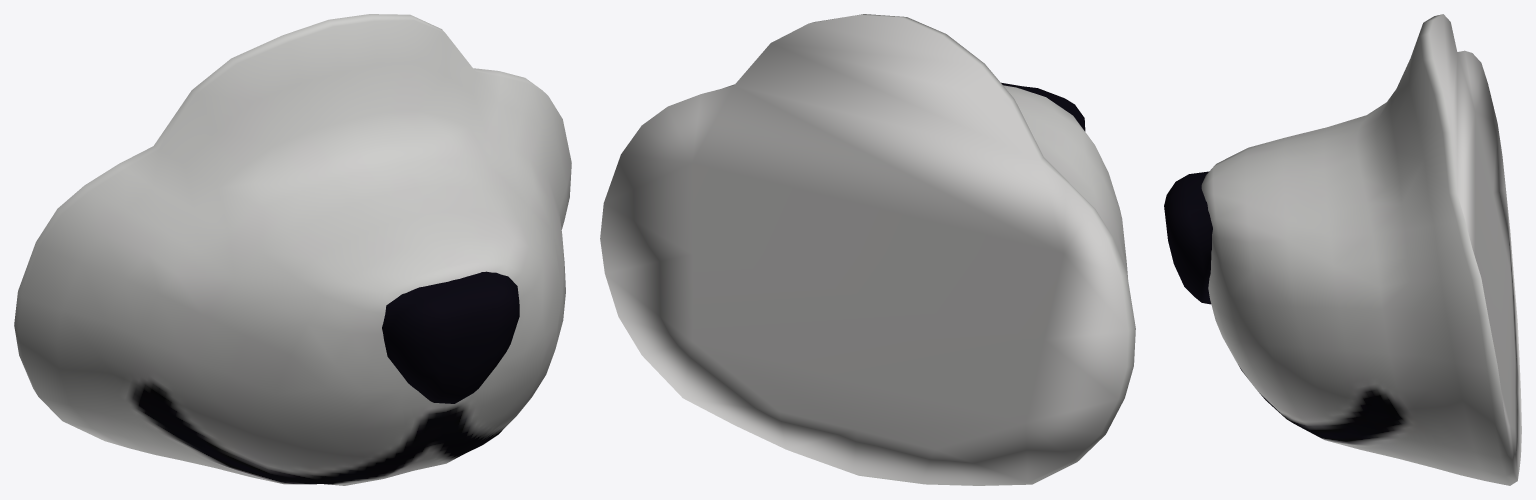
File: AccessoryMouthDog0.glb
3 views of the same model, side by side, from view 1: azimuth 30°, elevation 25°; view 2: azimuth 150°, elevation 25°; view 3: azimuth 270°, elevation 25° (orthographic). The views are drawn at different scales.
Parts seen in each view (by area): view 1: Accessory__mAccessory; view 2: Accessory__mAccessory; view 3: Accessory__mAccessory.
Boxes of the visible parts, x1=… form: Accessory__mAccessory: x1=14, y1=14, x2=571, y2=485; Accessory__mAccessory: x1=600, y1=14, x2=1135, y2=485; Accessory__mAccessory: x1=1164, y1=14, x2=1521, y2=485.
Bounding box in the file's own units: 2.78 × 2.14 × 1.72.
1 material, 1 textured.
